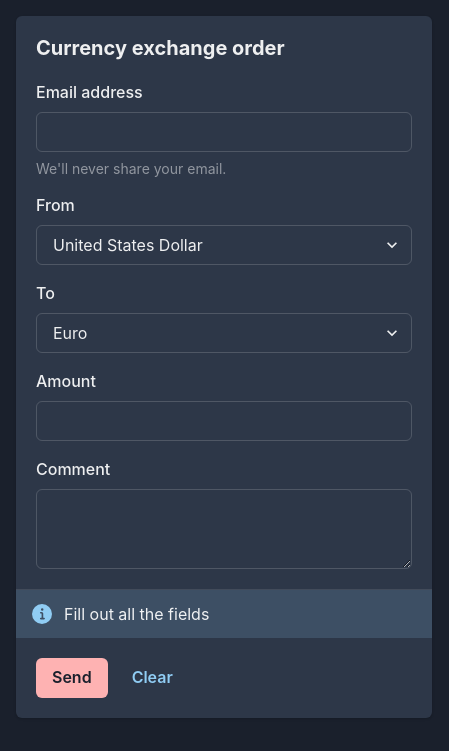
Test: example to-do app › displays two todo items by default
Step 1. Type "test@gmail.com" into the field with test id "email" → x=224, y=132, box top-left (36, 112), bottom-right (412, 152)
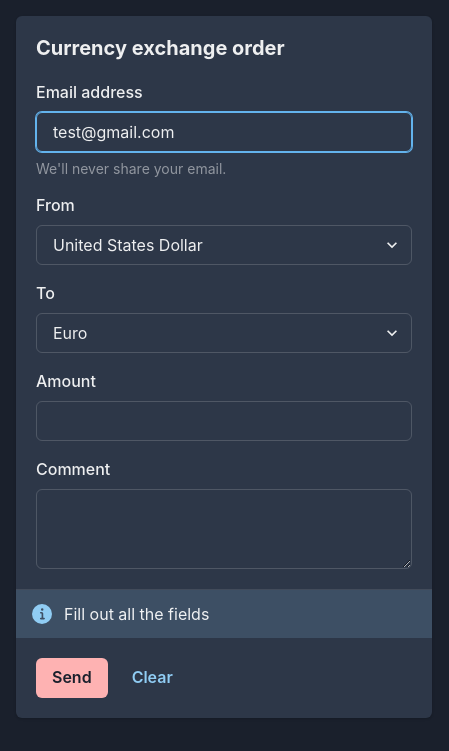
Step 2. Select "1" in the dropdown with test id "from" → x=224, y=245, box top-left (36, 225), bottom-right (412, 265)
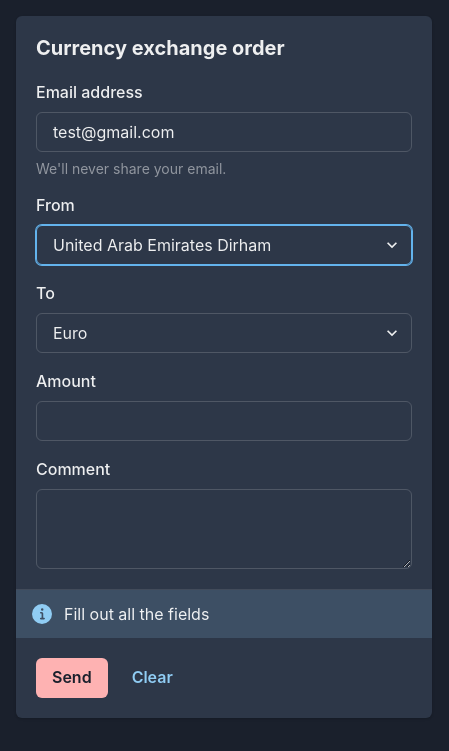
Step 3. Select "2" in the dropdown with test id "to" → x=224, y=333, box top-left (36, 313), bottom-right (412, 353)
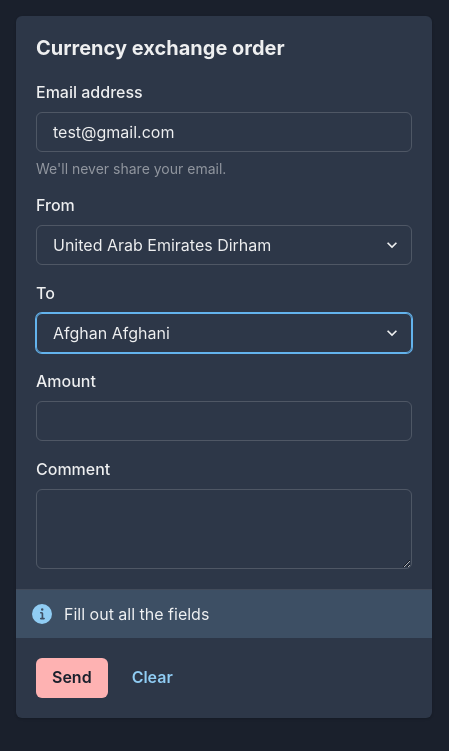
Step 4. Type "100" into the number field with test id "amount" → x=224, y=421, box top-left (36, 401), bottom-right (412, 441)
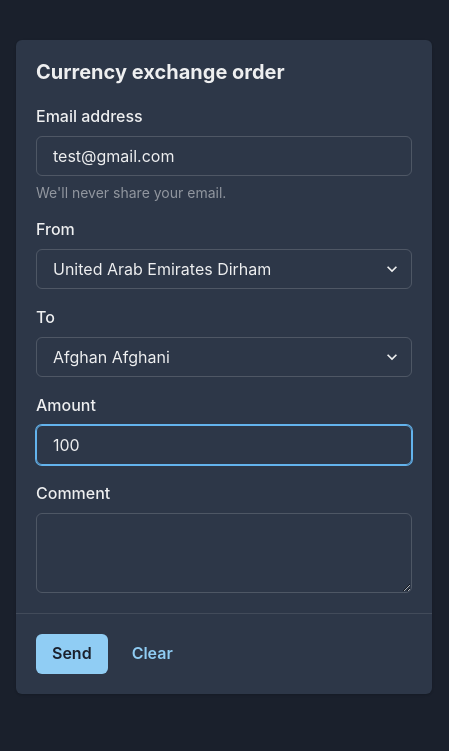
Step 5. Type "my comment" into the text box with test id "comment" → x=224, y=553, box top-left (36, 513), bottom-right (412, 593)
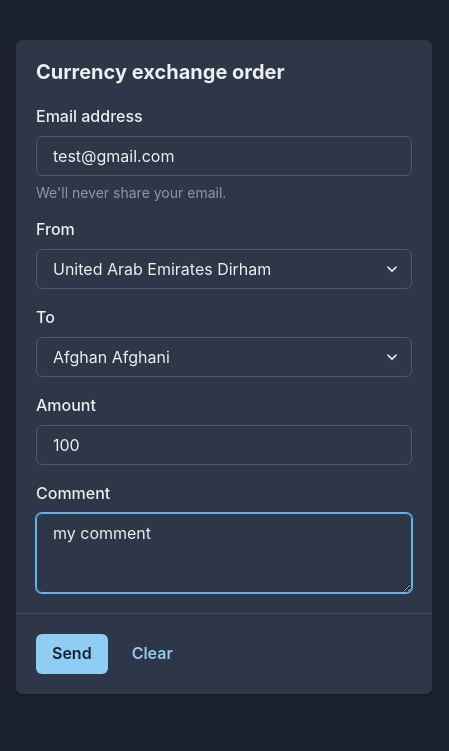
Step 6. Click the button with test id "submit" → x=72, y=654, box top-left (36, 634), bottom-right (108, 674)
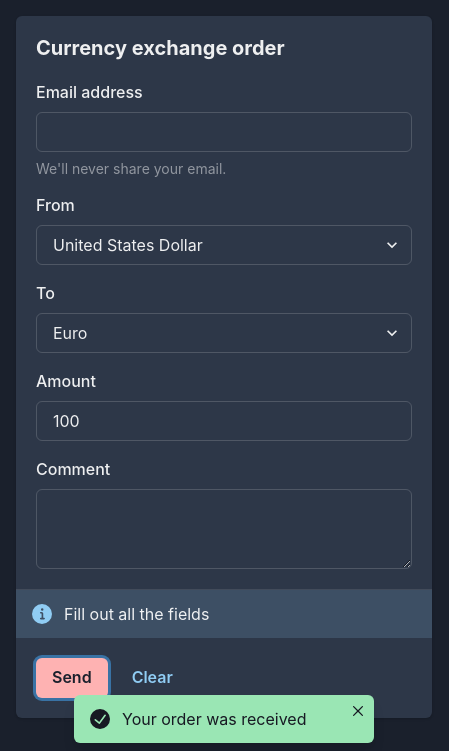
Result: the text "Your order was received" is shown at top-left (122, 709), bottom-right (306, 729)
